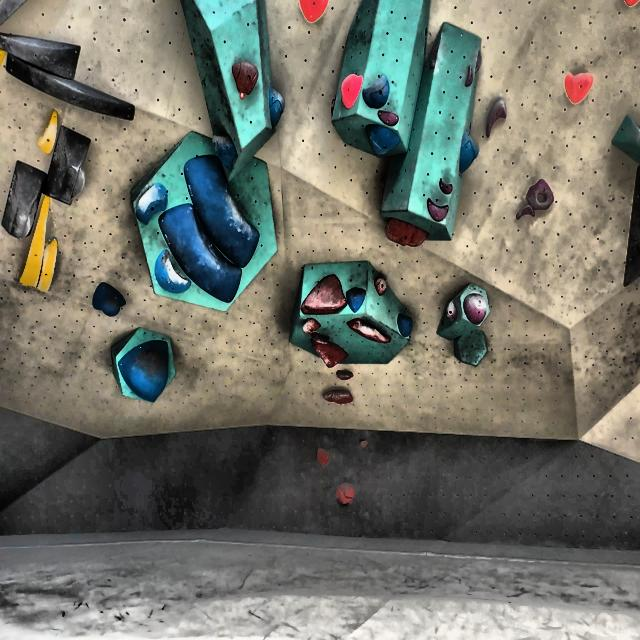Hold: (182, 153, 266, 266), (163, 202, 248, 312), (0, 69, 143, 127), (117, 342, 182, 409), (14, 198, 50, 298), (0, 37, 97, 74), (49, 132, 88, 208), (6, 151, 36, 241), (152, 249, 194, 299), (301, 274, 349, 316), (39, 224, 64, 300), (625, 162, 640, 288), (483, 88, 519, 140), (378, 215, 431, 249), (263, 78, 292, 131), (134, 182, 170, 222), (612, 113, 640, 161), (359, 121, 399, 153), (350, 318, 394, 347), (92, 280, 123, 321), (310, 340, 350, 371), (456, 127, 480, 176), (214, 132, 242, 174), (361, 74, 395, 108), (230, 60, 258, 99), (464, 285, 492, 323), (521, 182, 557, 210), (566, 72, 596, 105), (38, 104, 58, 151), (296, 3, 330, 30), (427, 197, 457, 225), (338, 70, 358, 111), (318, 388, 356, 409), (348, 286, 372, 316), (375, 274, 397, 300), (432, 172, 456, 194), (510, 203, 540, 220), (336, 482, 354, 508), (441, 298, 460, 322), (311, 444, 331, 466), (397, 309, 412, 338), (330, 364, 354, 382), (428, 36, 440, 72), (376, 111, 403, 126), (300, 314, 318, 334), (464, 67, 476, 89), (358, 438, 374, 453), (474, 51, 484, 74), (621, 0, 640, 9)
